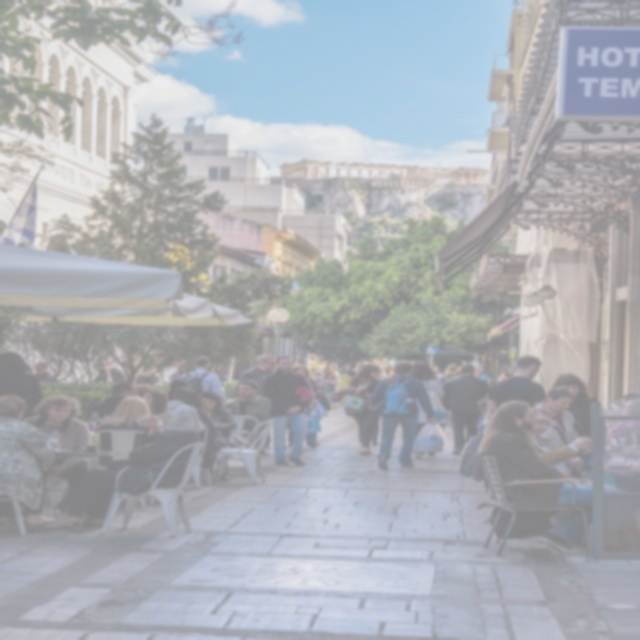pessoa: (37, 403, 209, 532), (478, 399, 595, 554), (523, 406, 627, 542), (18, 393, 92, 523), (366, 359, 437, 472), (0, 393, 59, 526), (258, 354, 316, 467), (439, 363, 492, 456), (529, 386, 593, 456), (95, 396, 152, 470), (485, 354, 549, 416), (343, 362, 385, 456), (550, 373, 605, 439), (410, 361, 446, 458), (286, 364, 326, 449), (0, 350, 45, 422), (223, 380, 274, 440), (196, 391, 239, 448), (101, 381, 164, 418), (178, 356, 226, 404), (234, 354, 279, 399), (319, 362, 342, 409), (319, 362, 341, 406), (134, 364, 187, 382), (336, 371, 355, 407), (29, 360, 59, 382), (472, 368, 513, 383), (438, 363, 464, 385), (101, 362, 128, 383), (374, 361, 398, 378)
